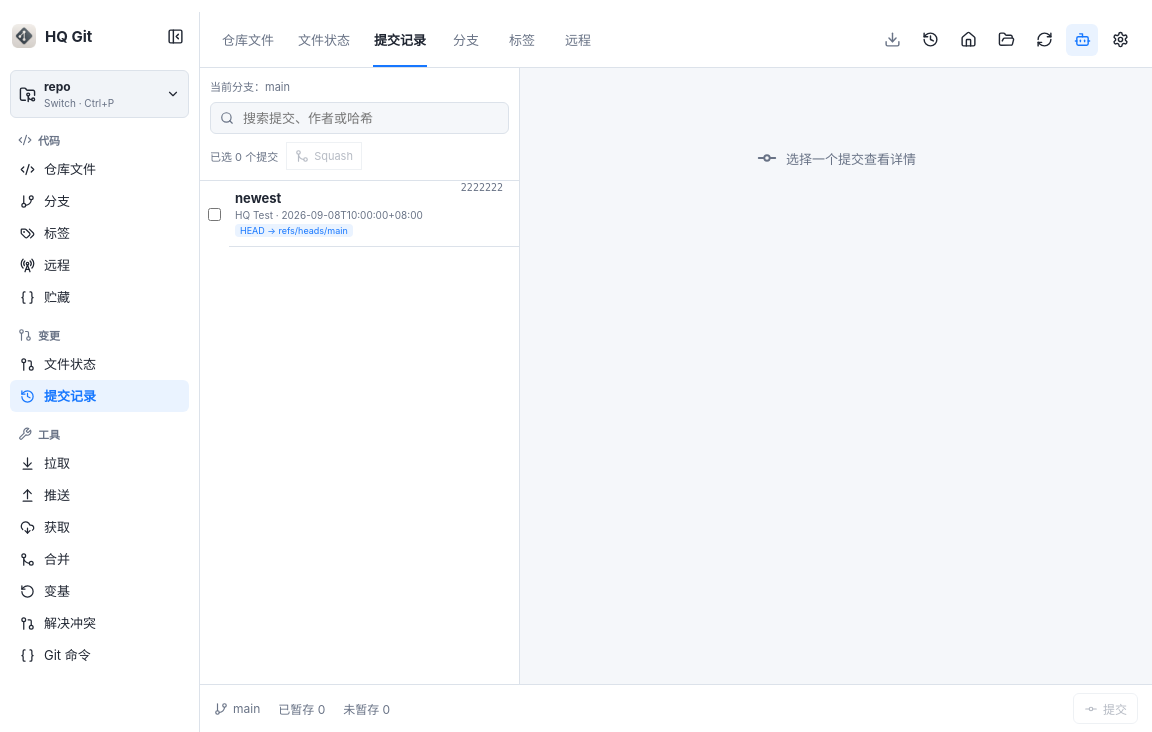
Test case: history workbench › offers a retry after detail loading fails
The image size is (1152, 732).
Click the button that starts with "newest".
click(374, 214)  # box 229,181 -> 519,247
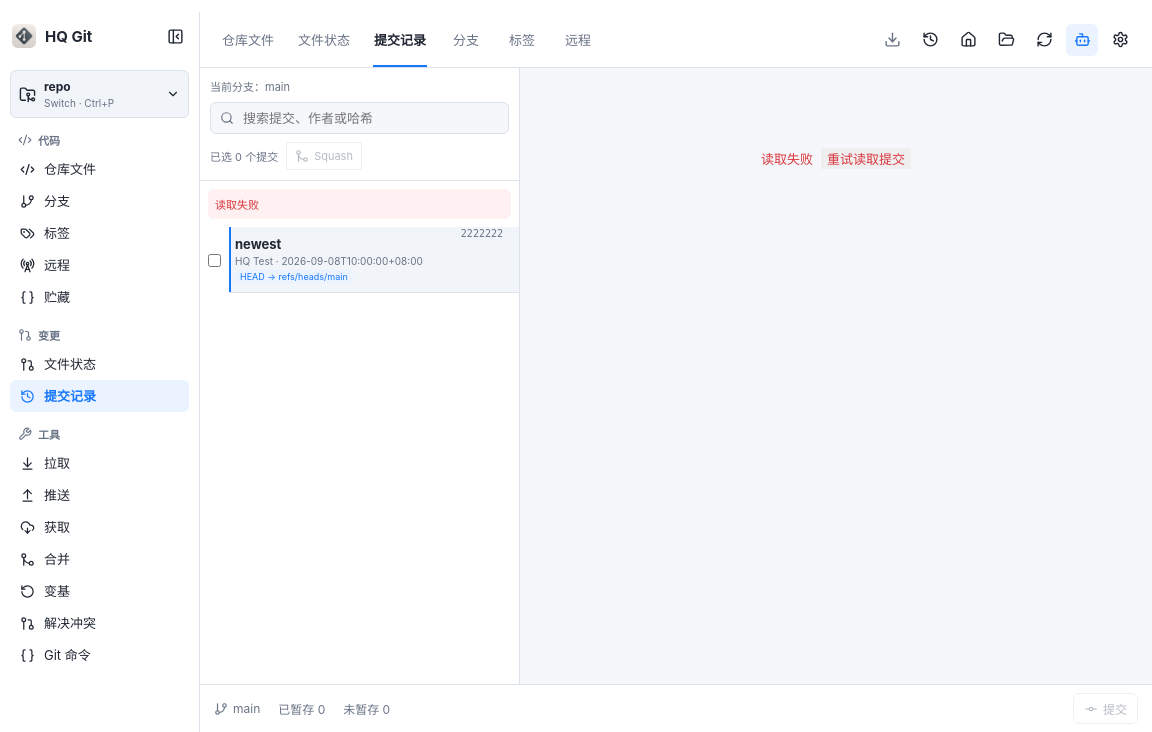
Check: the message "读取失败 重试读取提交" is shown, box 761,148 -> 911,168
Click the button "重试读取提交".
click(866, 158)  # box 821,148 -> 911,168
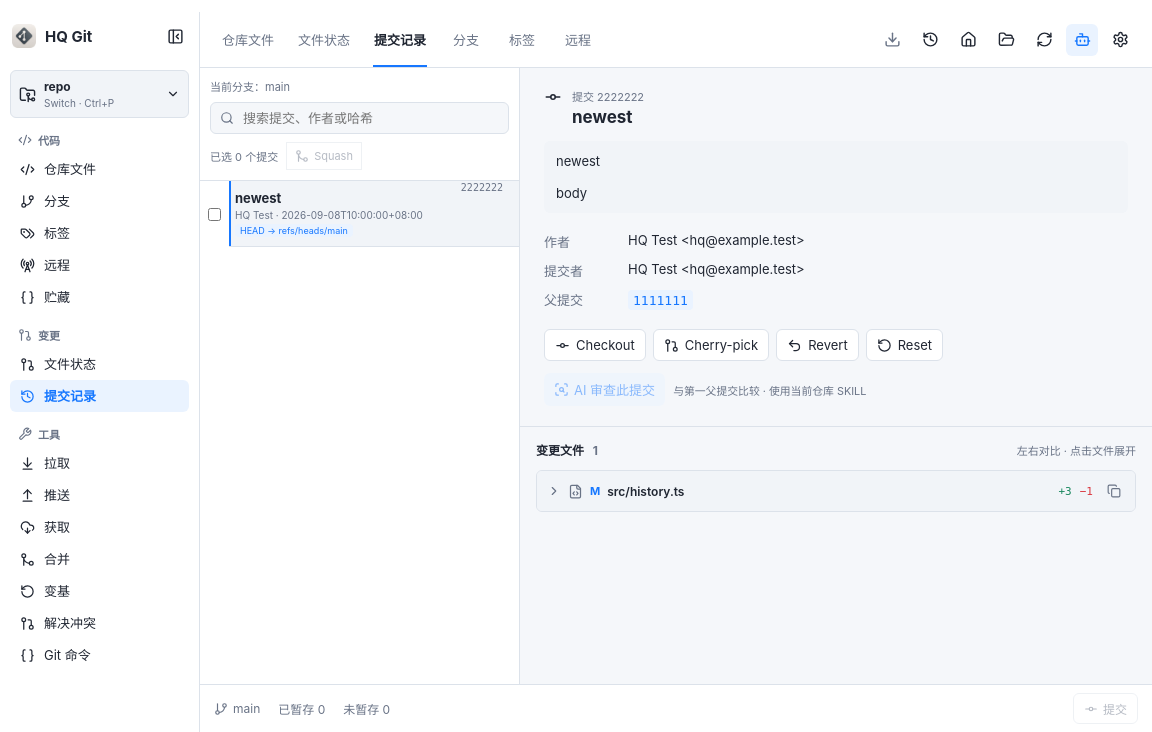
Check: the button with aria-label "查看提交文件 src/history.ts" is shown, box 537,474 -> 1052,508
